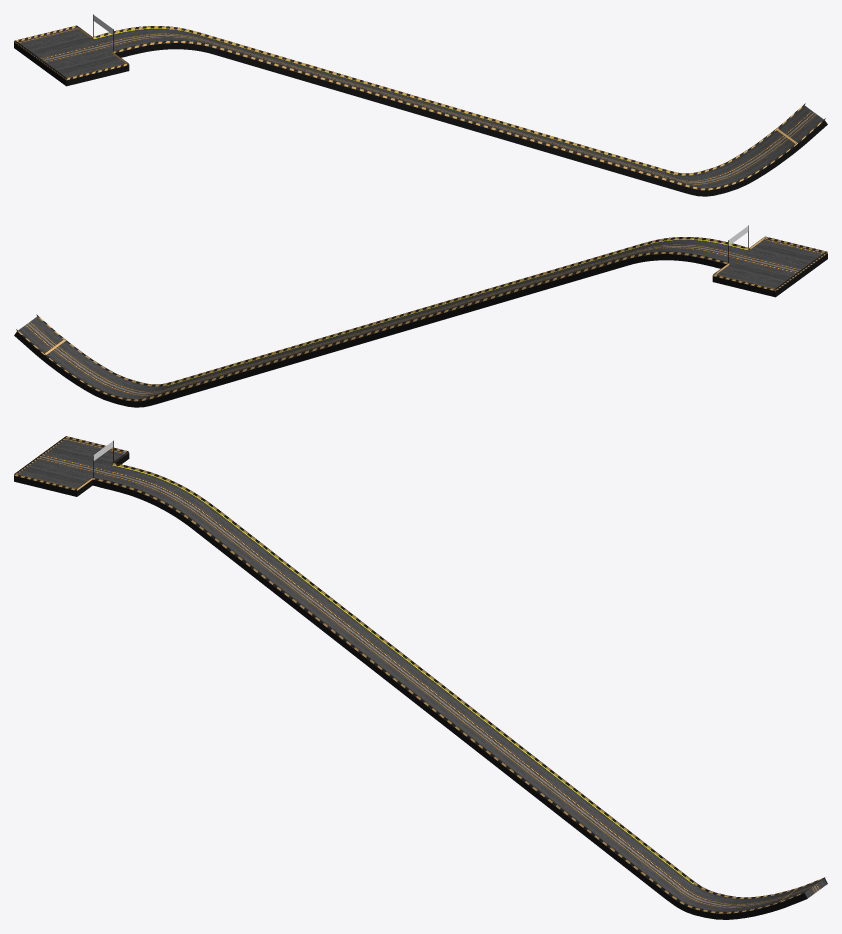
File: Platform.FBX
3 renders of one model, top to bottom at view 1: azimuth 30°, elevation 25°; view 2: azimuth 150°, elevation 25°; view 3: azimuth 330°, elevation 25°, orthographic.
Parts seen in each view (by area): view 1: Platform; view 2: Platform; view 3: Platform.
Part boxes in pixels (x1,y1,x2,y2): Platform: [14, 14, 827, 196]; Platform: [14, 225, 827, 407]; Platform: [14, 436, 827, 919].
Bounding box in the file's own units: 547 × 210 × 63.81.
Materials: 5 (2 with a texture image).
